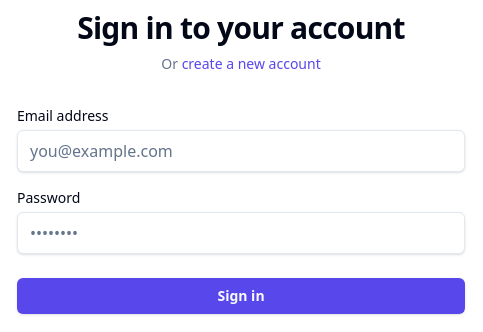
Test: LoginPage › form submission › should show loading state during submission
The width and height of the screenshot is (483, 332).
Type "test@example.com" into the field labelled "Email address". click: [241, 151]
box: top-left (17, 130), bottom-right (465, 172)
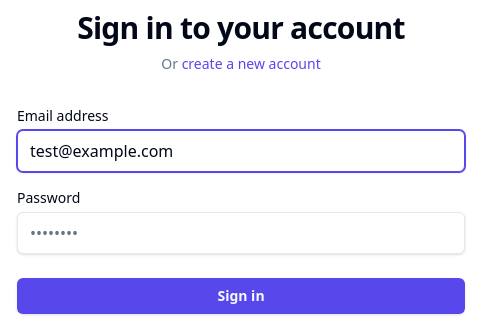
Type "password123" into the password field labelled "Password". click: [241, 233]
box: top-left (17, 212), bottom-right (465, 254)
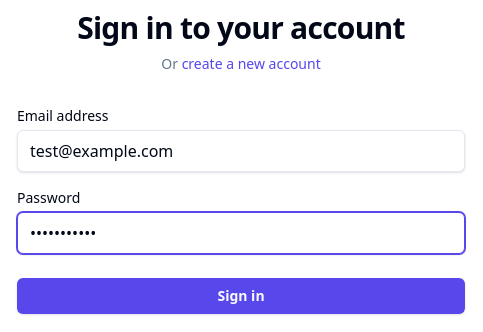
Click the button "Sign in". click: [241, 296]
box: top-left (17, 278), bottom-right (465, 314)
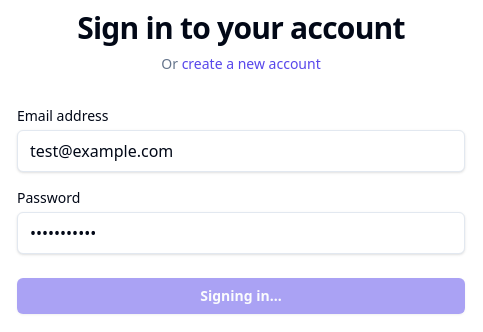
Check: the button "Signing in..." is shown, box top-left (17, 278), bottom-right (465, 314)
